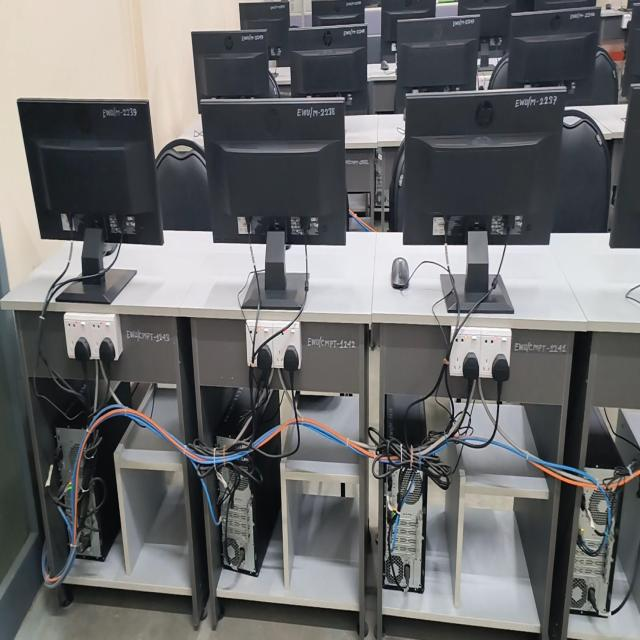Chair: (553, 118, 609, 232), (156, 137, 210, 231), (573, 46, 618, 103), (488, 53, 509, 89), (247, 487, 251, 492)
Cpu: (570, 489, 617, 617), (78, 421, 119, 561), (45, 401, 87, 524), (384, 469, 424, 591), (216, 465, 256, 574)
Monitor: (401, 88, 566, 245), (200, 98, 347, 245), (18, 98, 163, 245), (395, 15, 479, 111), (503, 8, 599, 88), (192, 30, 277, 112), (290, 25, 367, 96), (609, 81, 640, 248), (381, 0, 435, 60), (240, 2, 289, 62), (458, 0, 514, 37), (312, 0, 365, 26)
Mouse: (391, 257, 409, 290), (380, 60, 389, 70)
